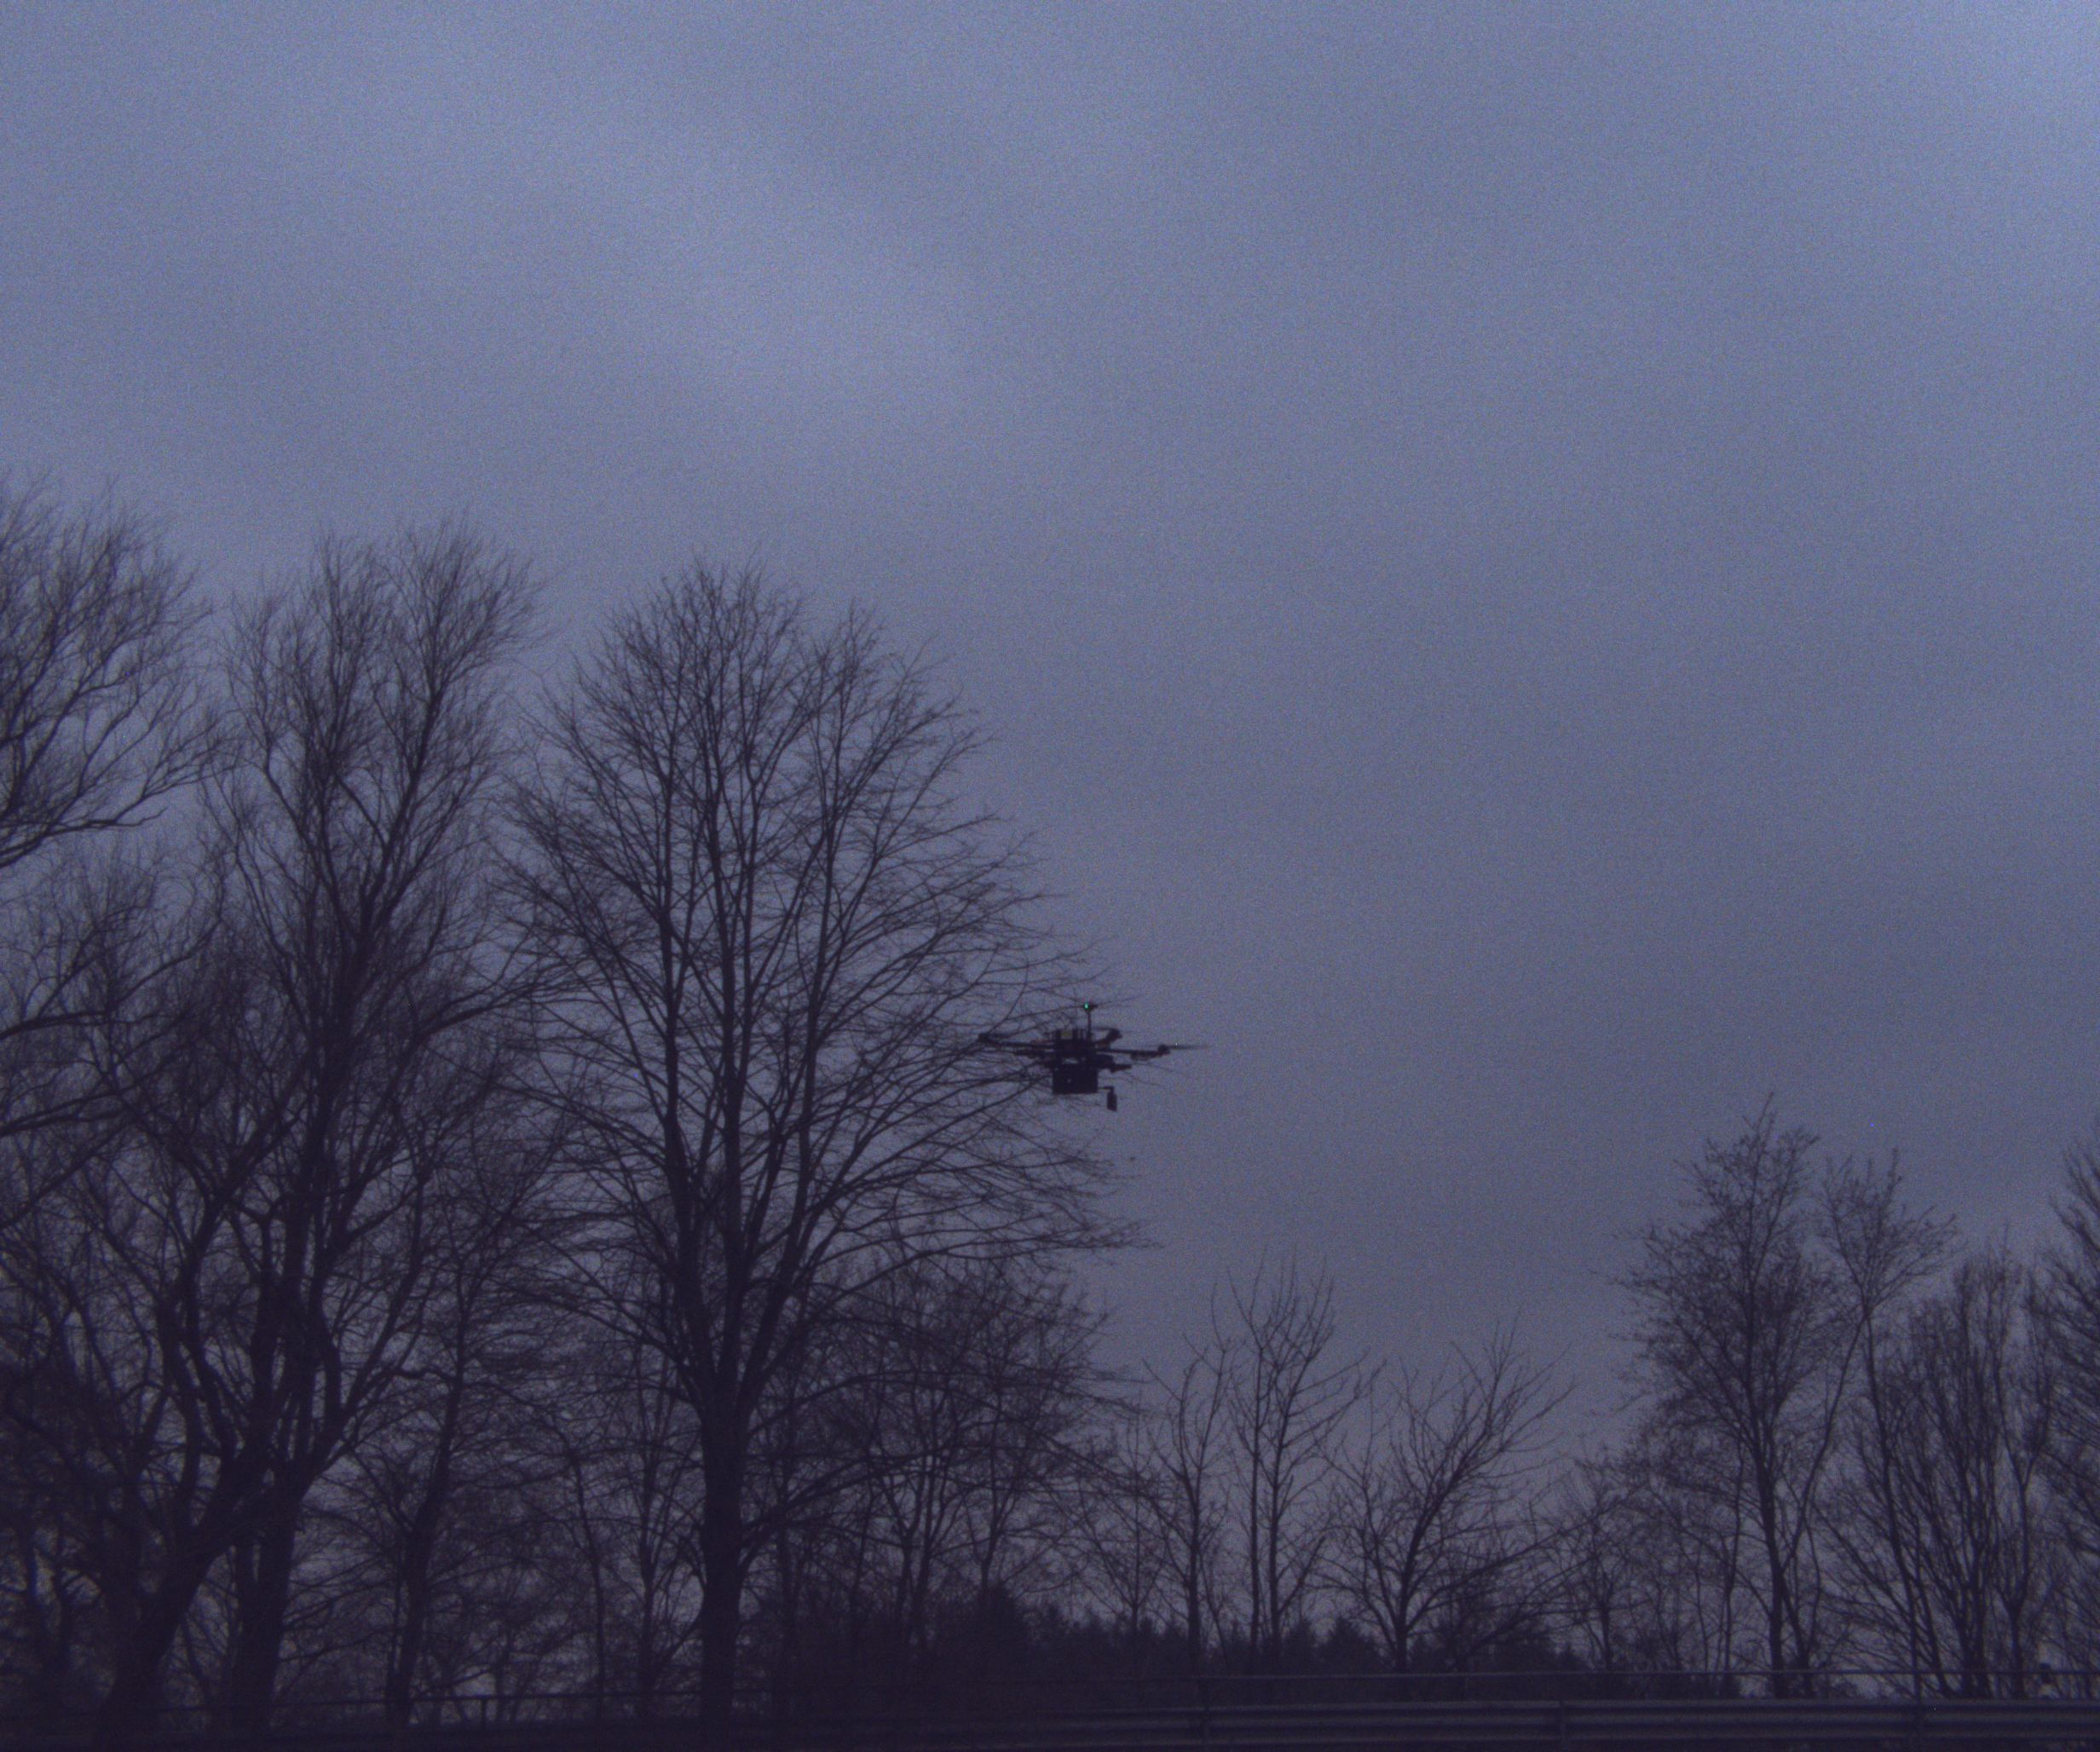Drohne: (982, 933, 1275, 1182)
